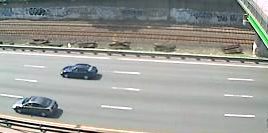car: (10, 93, 62, 119), (59, 61, 101, 82)
